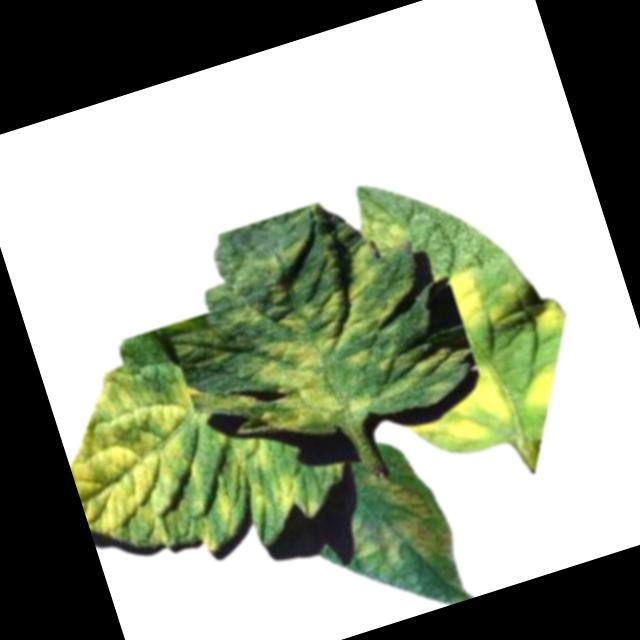Leaf_Mold: (46, 321, 316, 579), (219, 225, 469, 451), (336, 457, 461, 588), (394, 362, 519, 470), (445, 265, 495, 335), (515, 364, 568, 419), (533, 297, 574, 343)
